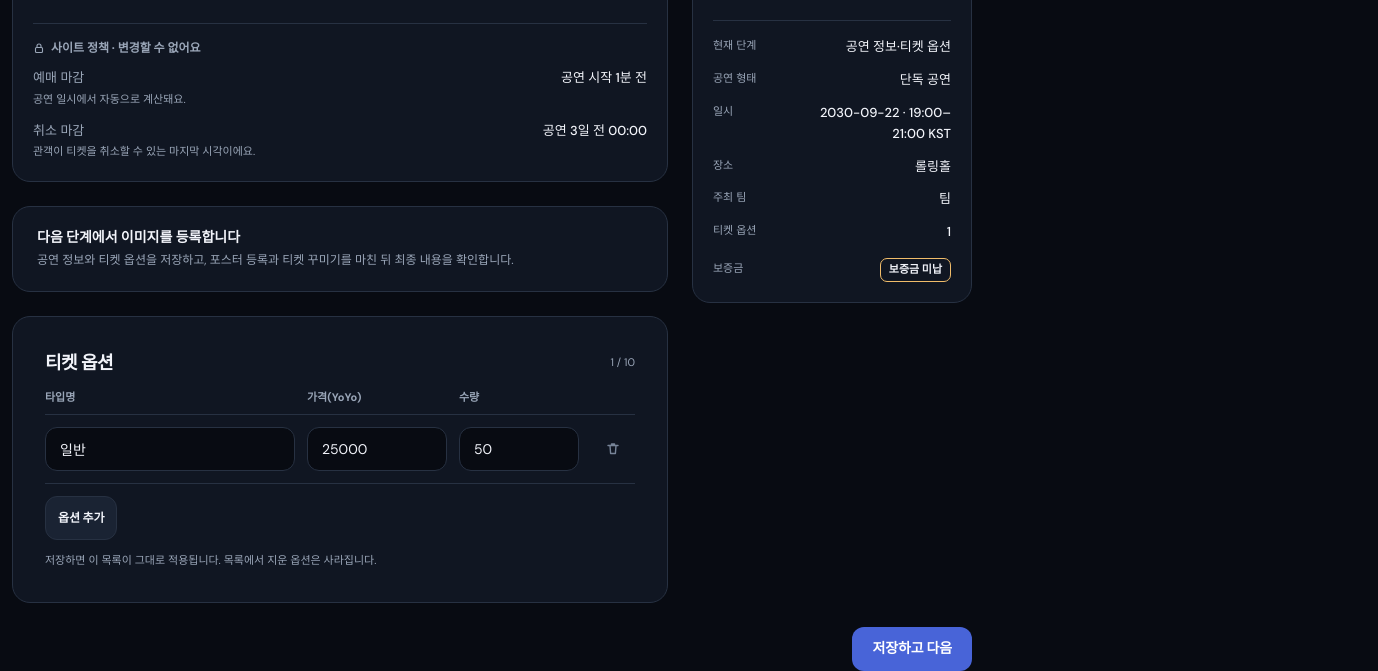
Test: PerformanceForm 5단계 준비 흐름 › 한 번의 저장으로 공연 정보와 티켓 옵션을 넘기고 정산 규칙 단계로 이동한다
(page scrolled)
Click the button "저장하고 다음" at (912, 649), box [852,627,972,670]
(page scrolled)
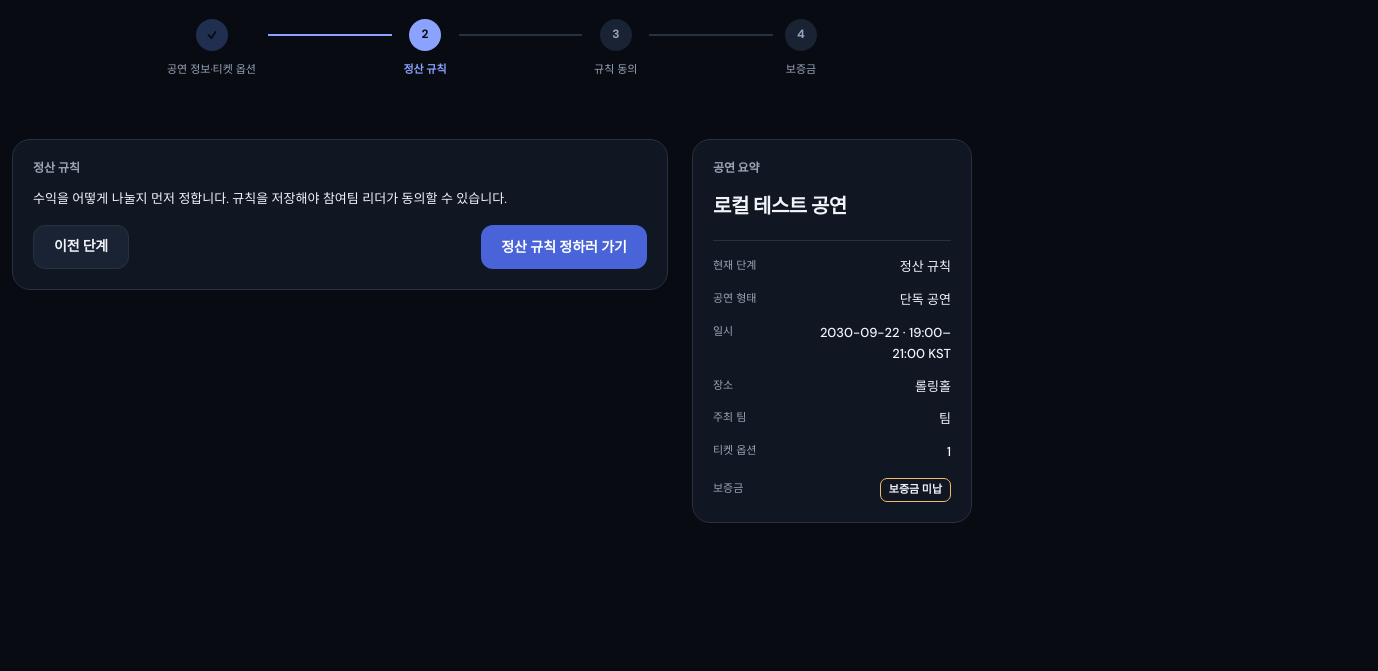
Expected: the element "정산 규칙" is shown, [12,139,668,290]
